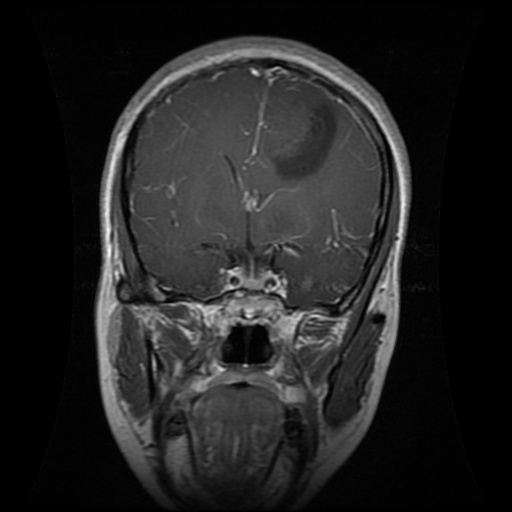glioma: (268, 99, 338, 182)
